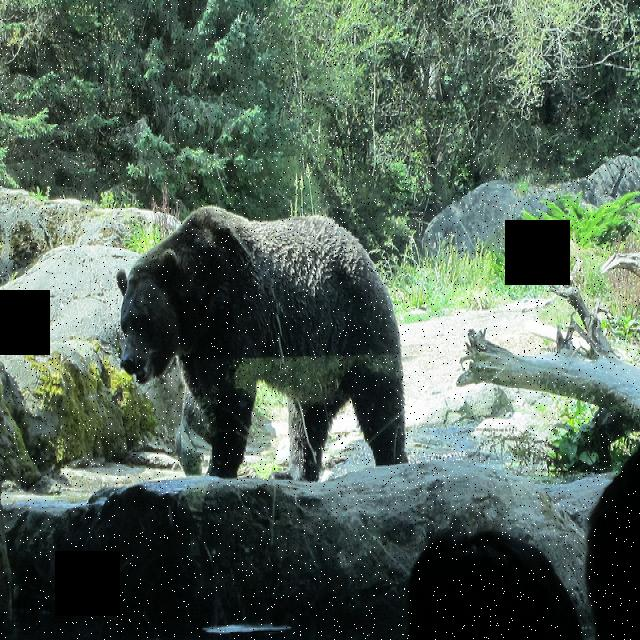Bear: (112, 202, 413, 469)
